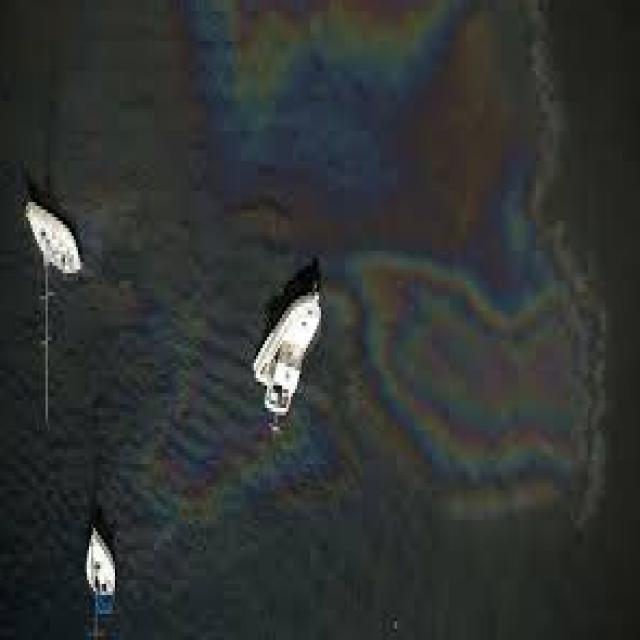rainbow: (206, 0, 605, 528), (154, 283, 276, 520)
